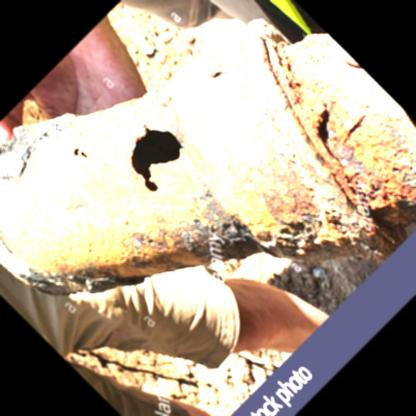burst: (128, 113, 206, 213)
